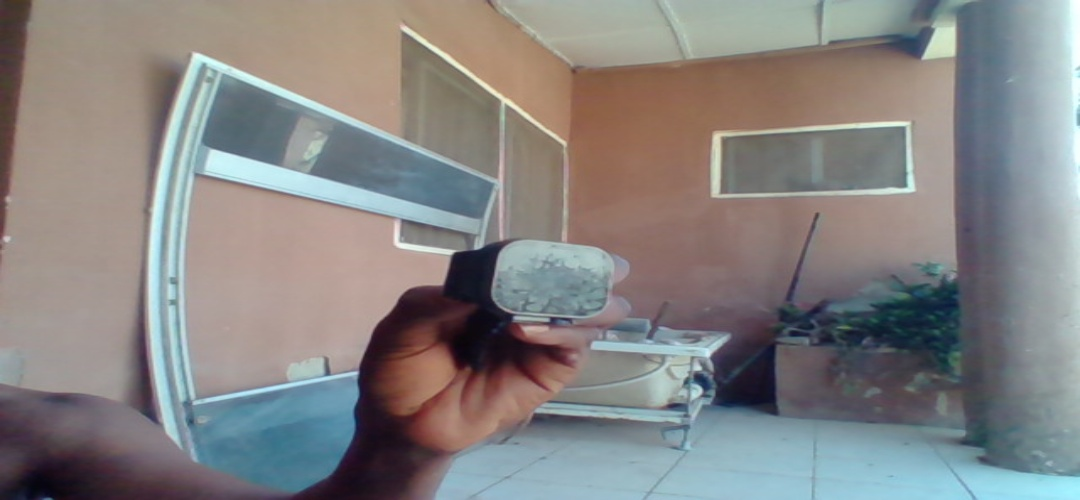smart_watch: (446, 236, 618, 327)
